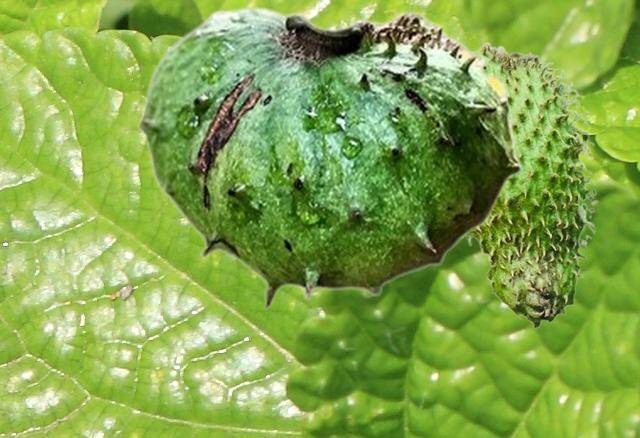guyabano: (137, 6, 522, 310), (465, 41, 598, 328)
